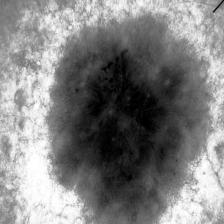Benign Marking or Mole: (60, 31, 197, 224)
